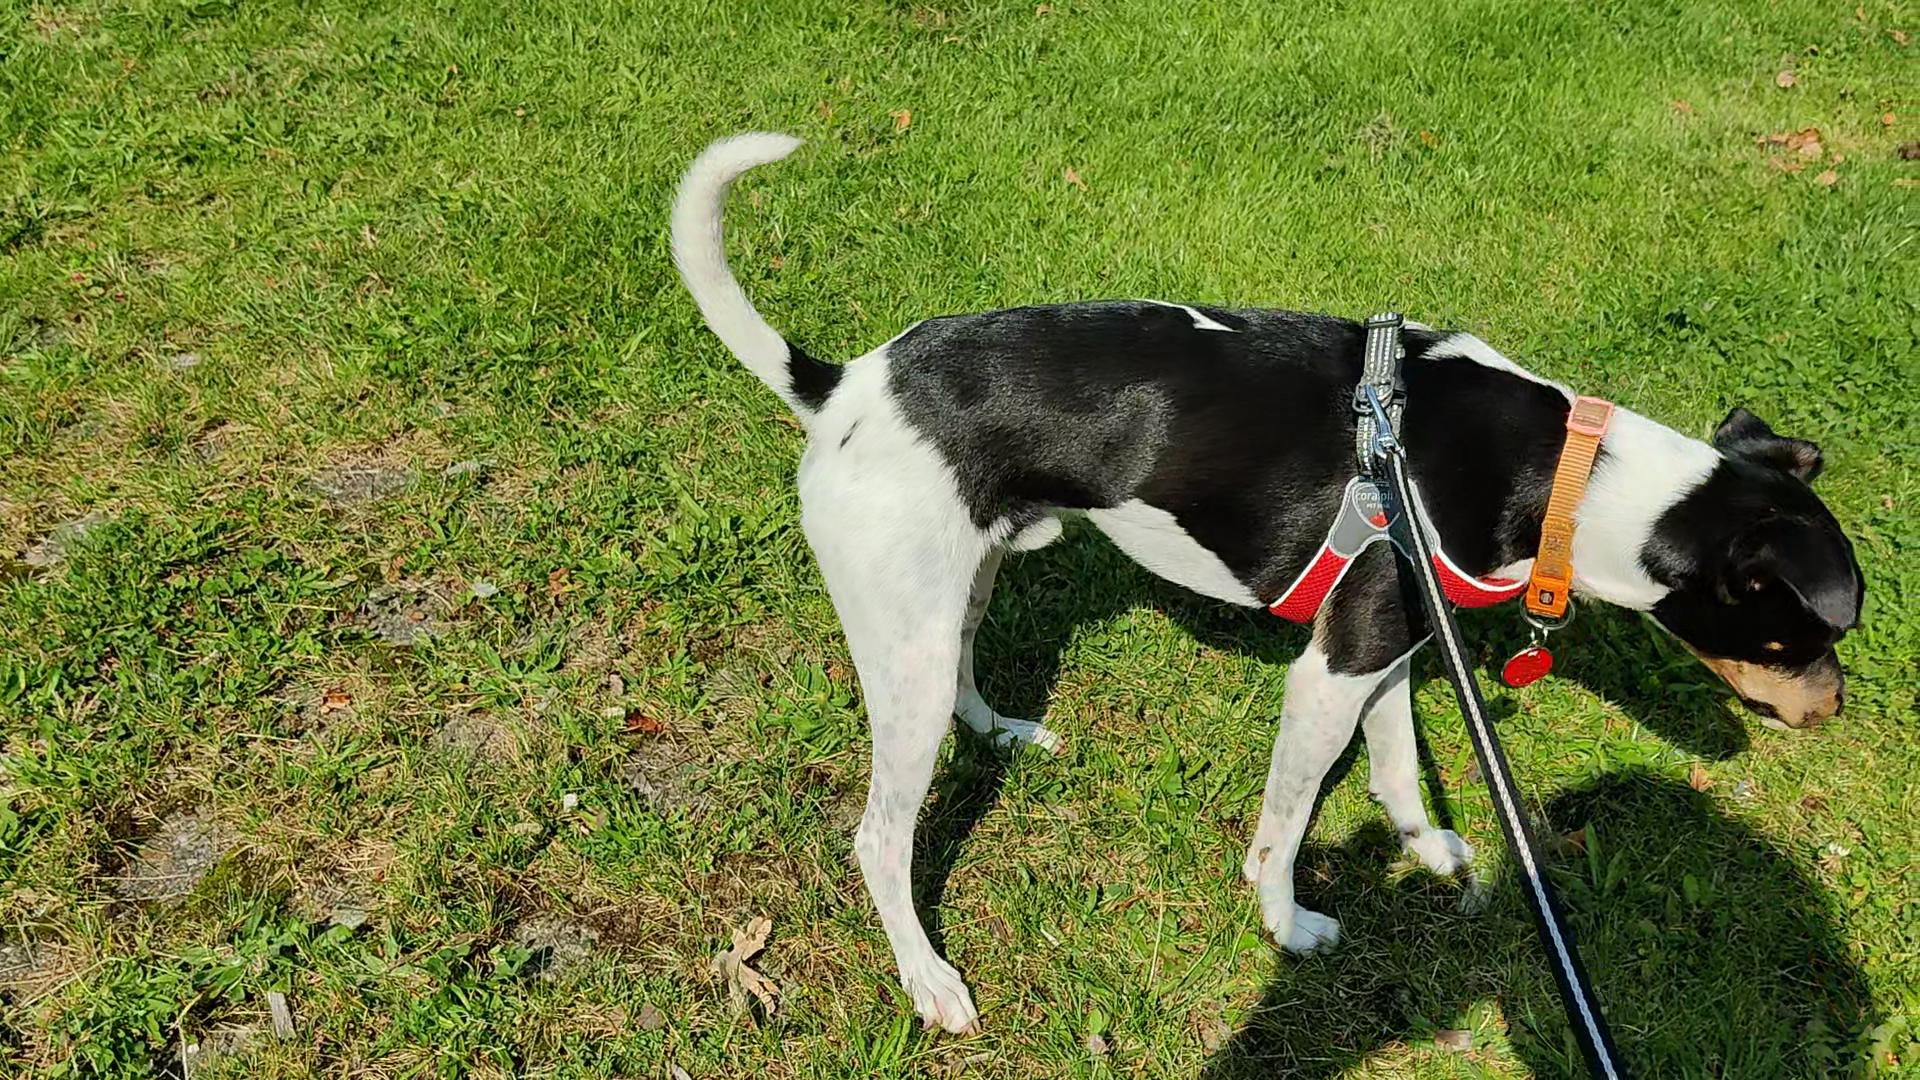Dog: (644, 84, 1896, 1051)
